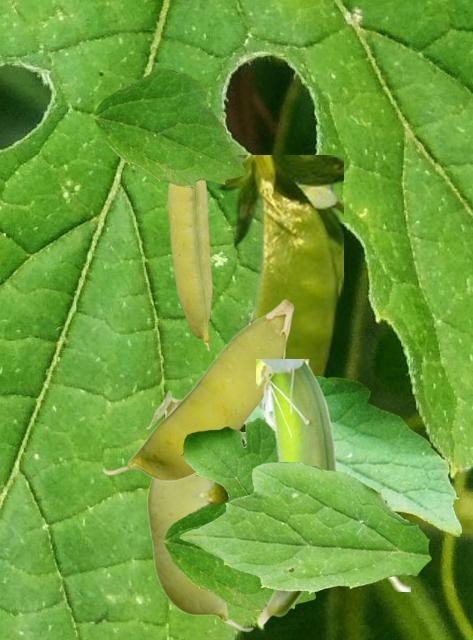pea: (190, 155, 342, 505), (102, 299, 293, 480), (243, 432, 409, 590), (145, 390, 253, 631), (256, 359, 339, 625), (167, 181, 212, 350)
